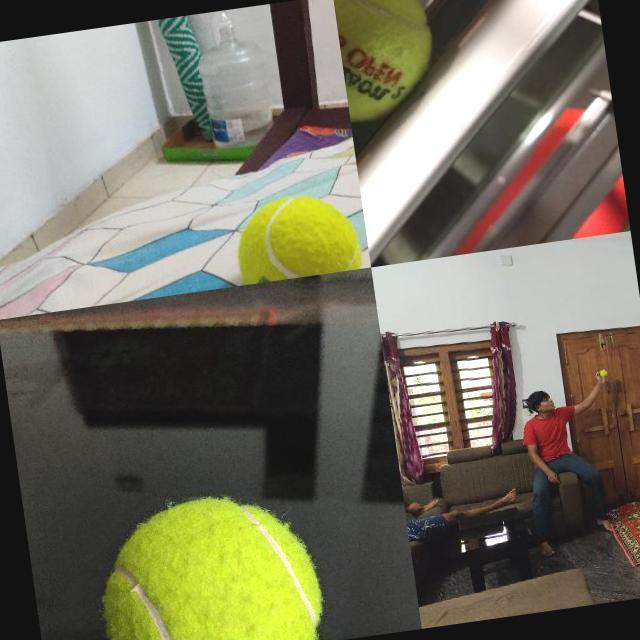Tennis Ball: (89, 479, 332, 640), (333, 0, 447, 127), (230, 186, 364, 284), (600, 370, 608, 378)
